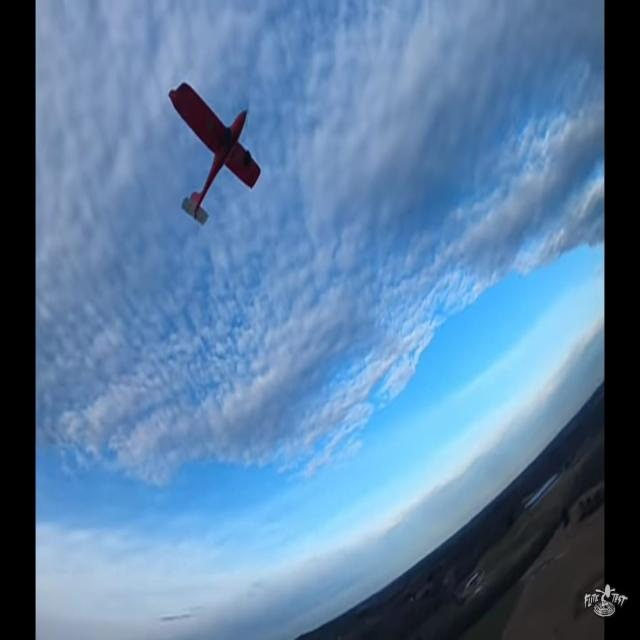iha: (200, 82, 230, 226)
